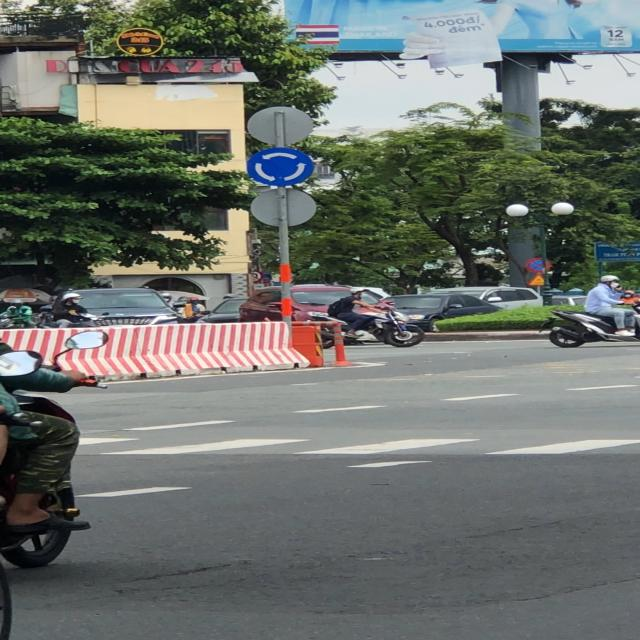Bien bao noi giao nhau chay theo vong xuyen: (245, 146, 319, 187)
